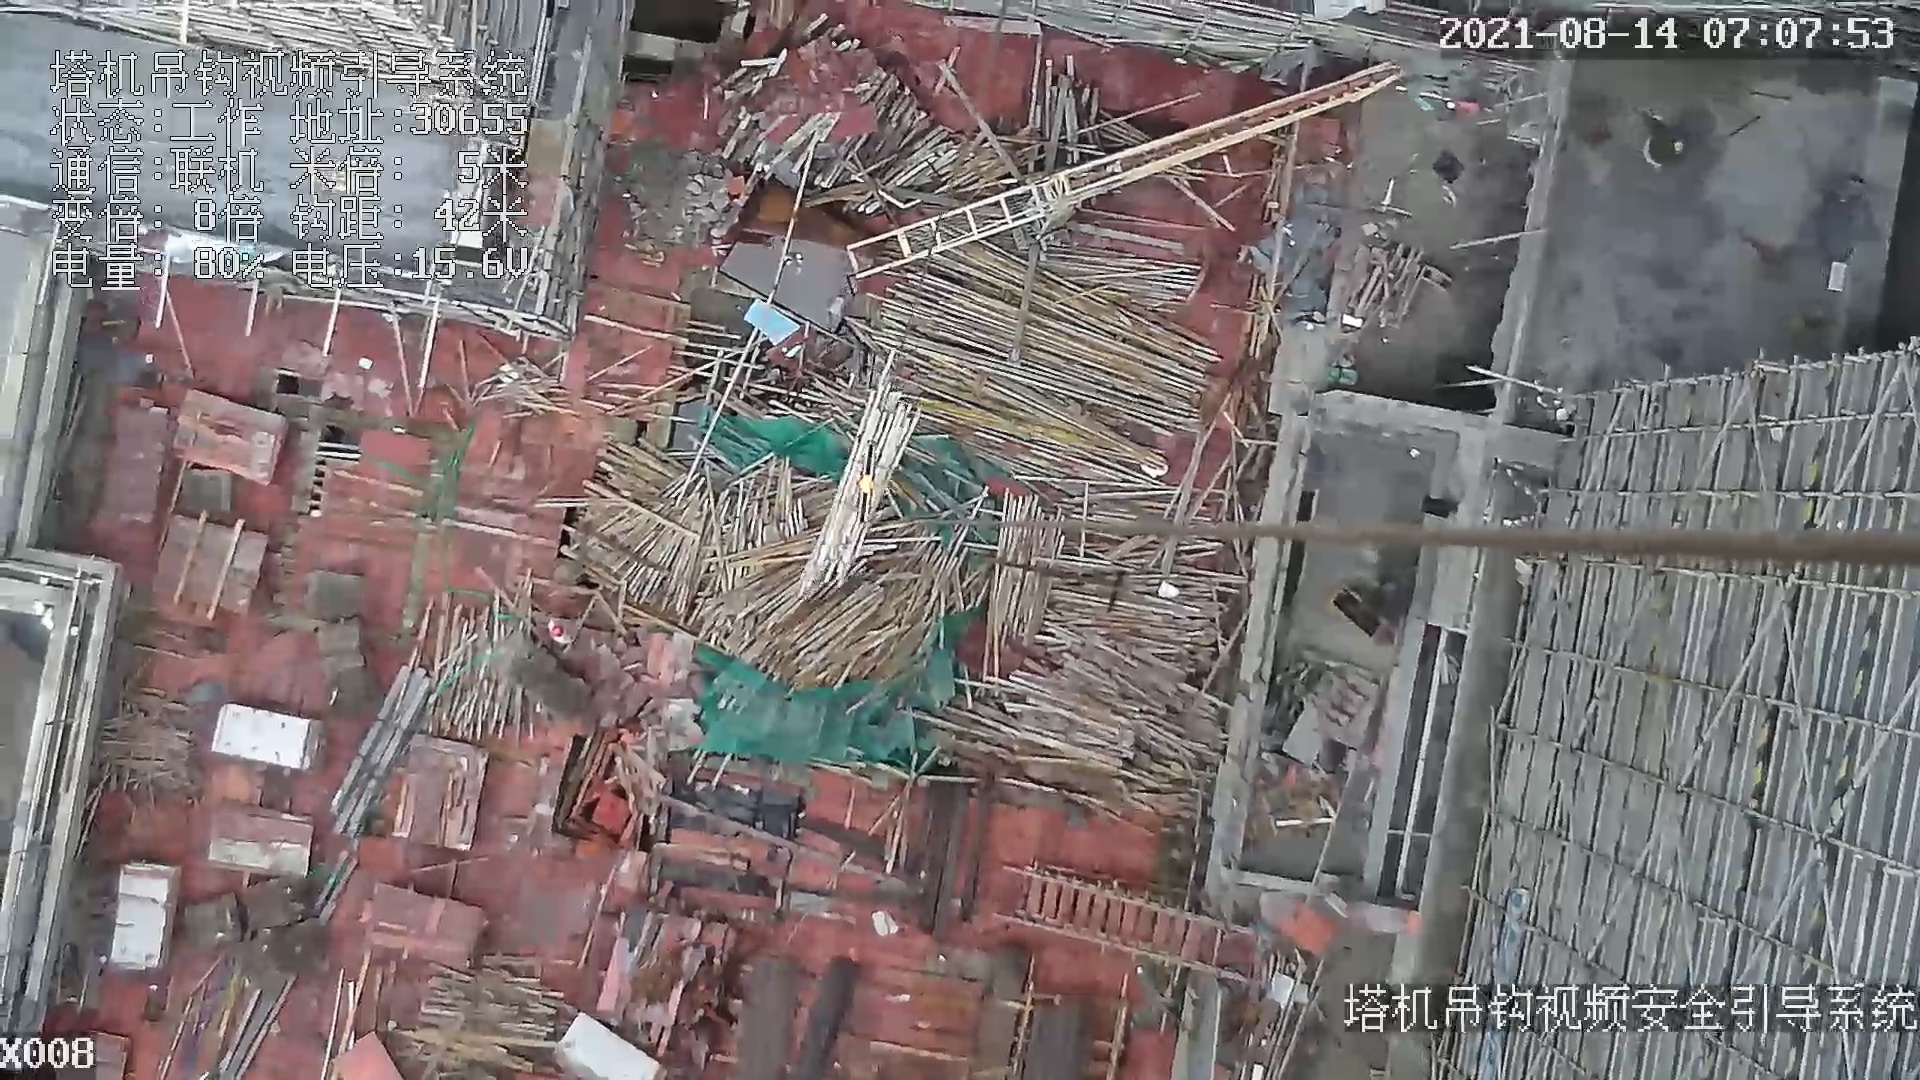hook: (855, 436, 880, 533)
